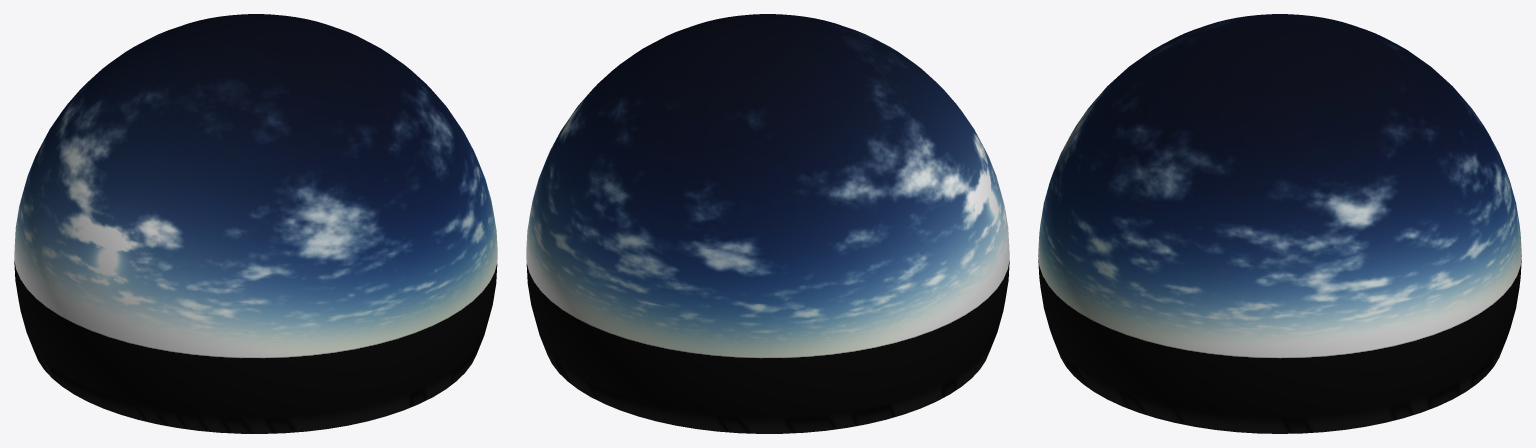
Rendered from entorno.dae.
3 views of the same model, side by side, from view 1: azimuth 30°, elevation 25°; view 2: azimuth 150°, elevation 25°; view 3: azimuth 270°, elevation 25° (orthographic).
Visible parts, largest first — view 1: Sphere01; view 2: Sphere01; view 3: Sphere01.
Boxes of the visible parts, <box> form: Sphere01: <box>14,14,497,433</box>; Sphere01: <box>526,14,1009,433</box>; Sphere01: <box>1038,14,1521,433</box>.
Bounding box in the file's own units: 3369 × 3369 × 2329.
4 materials, 2 textured.
